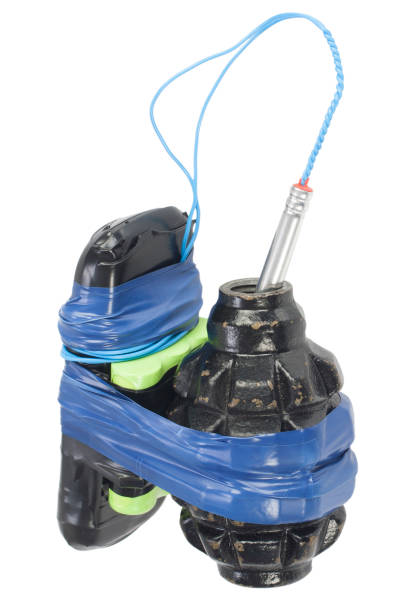e1: (168, 274, 359, 593)
